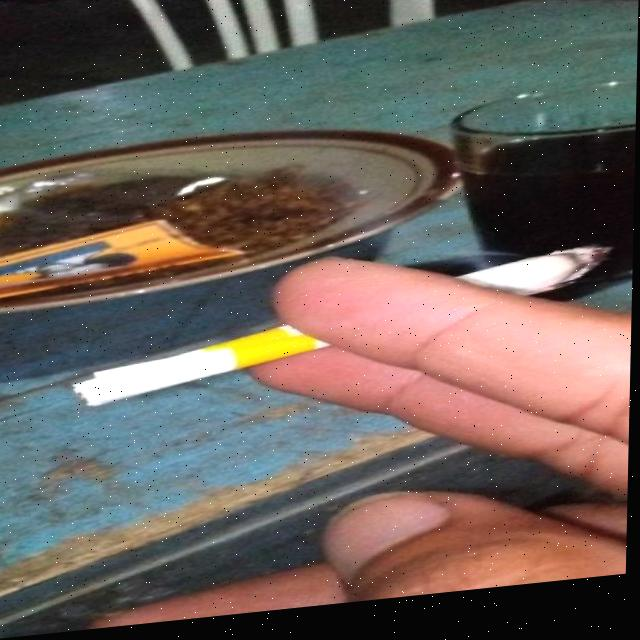cigarette: (72, 256, 610, 414)
